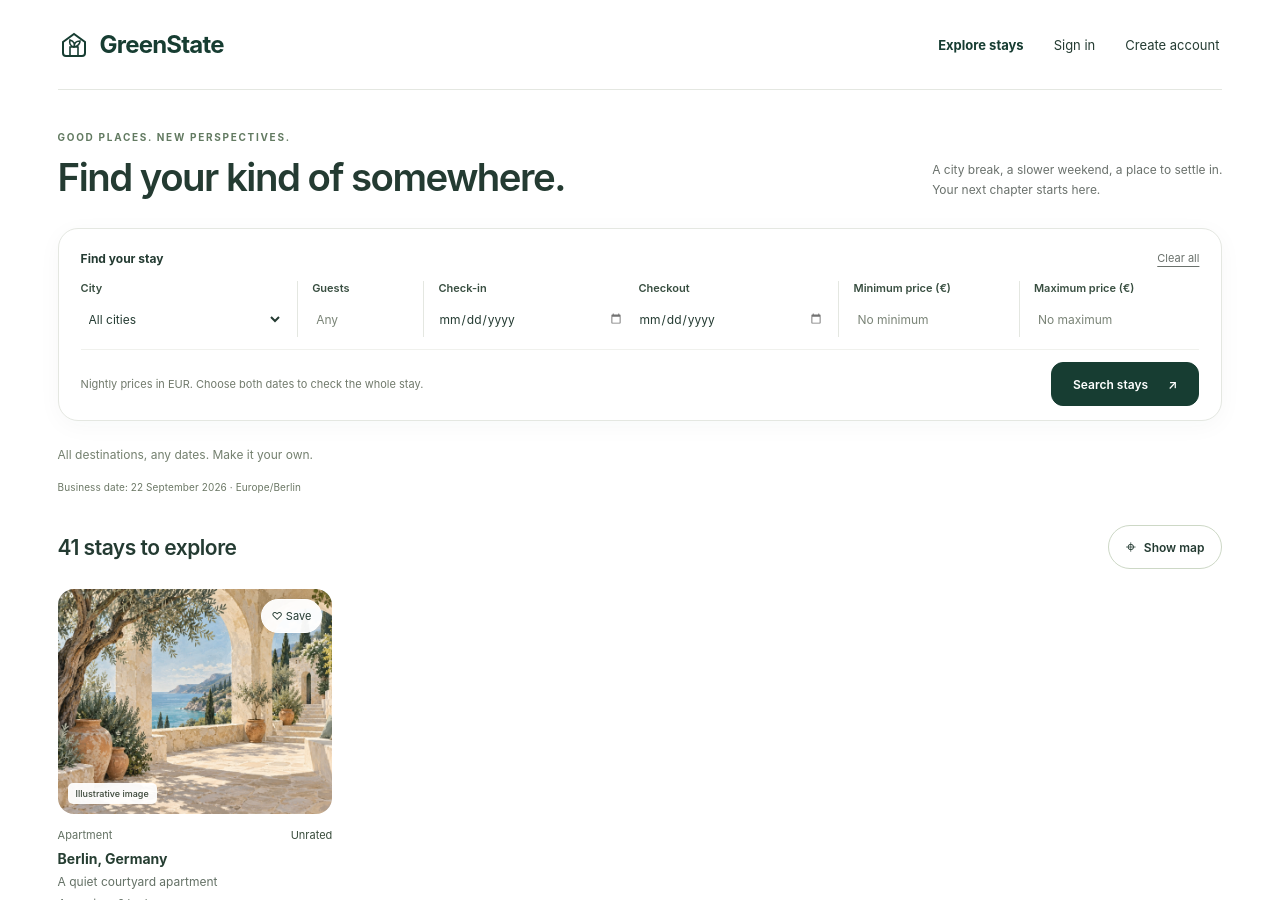
Test: URL-driven search › keeps an incomplete initial range in draft and enforces valid date ordering and maximum stay
Expected: the link "A quiet courtyard apartment" is shown, [58,874,218,890]
Type "2026-10-01" into the date field labelled "Check-in".
click(532, 319); type("2026-10-01")  # box [438,301,624,337]
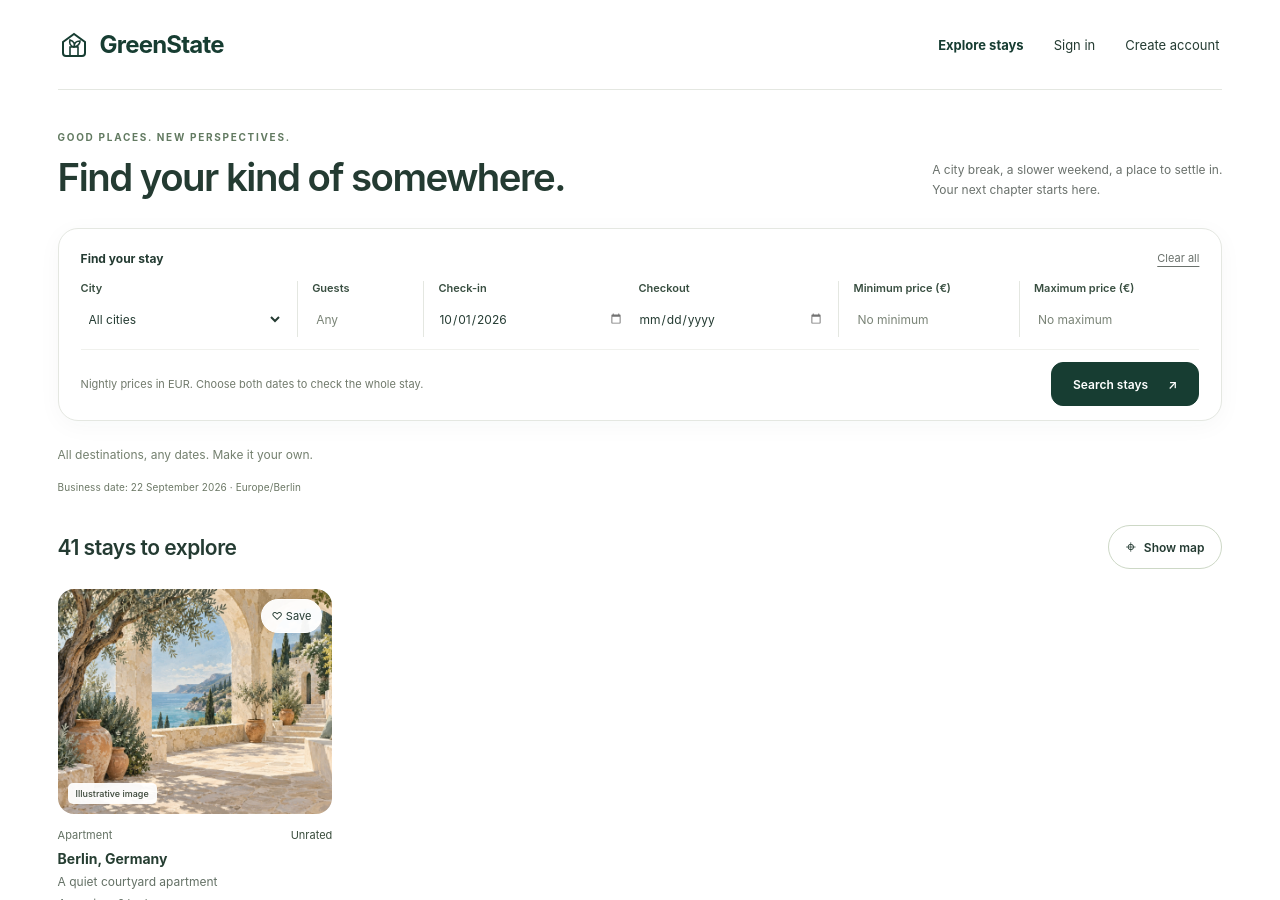
Click the button "Search stays ↗".
click(1125, 384)  # box [1051,362,1199,406]
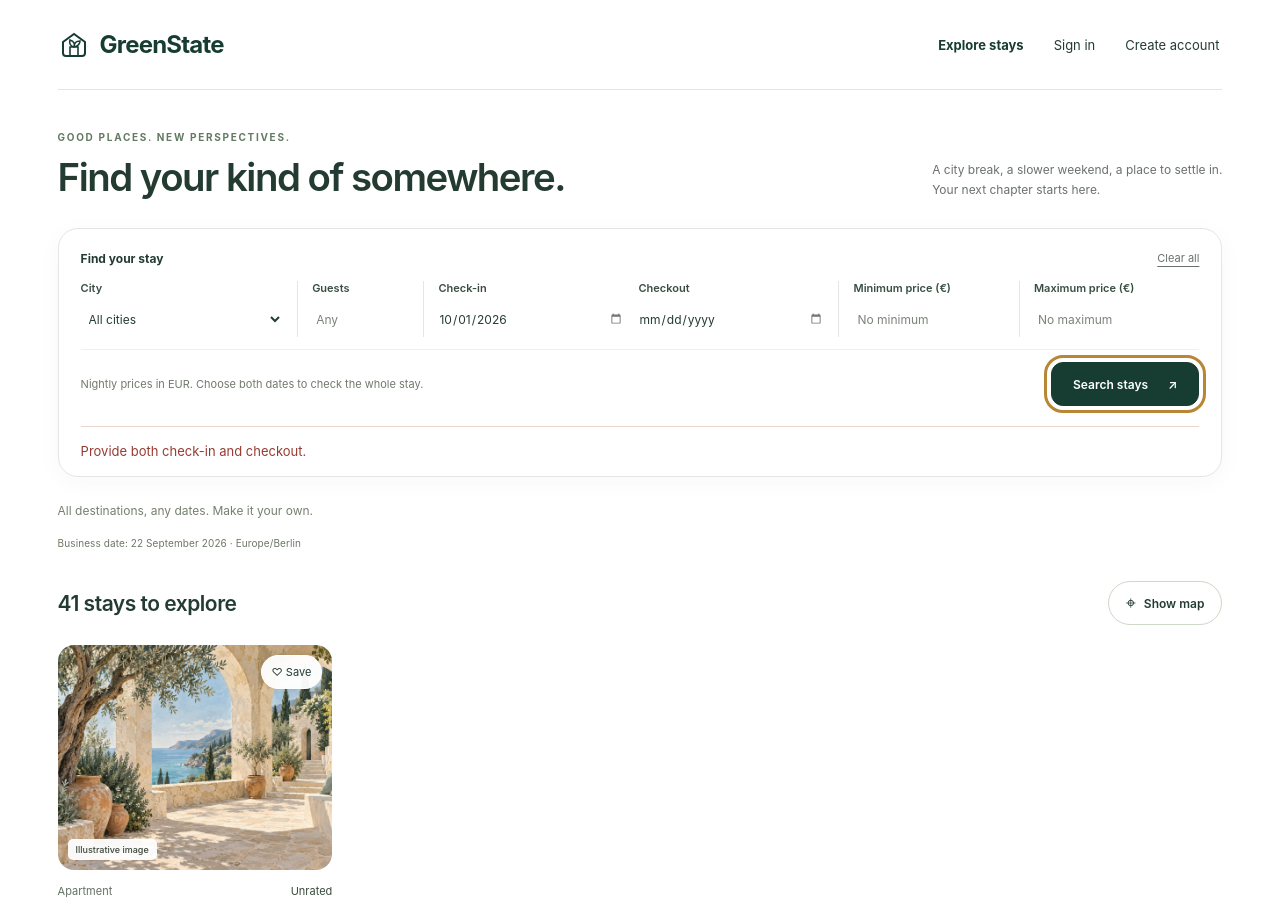
Result: the message shows "both" at [81,443,306,459]
Type "2026-10-01" into the date field labelled "Checkout".
click(732, 319); type("2026-10-01")  # box [638,301,824,337]
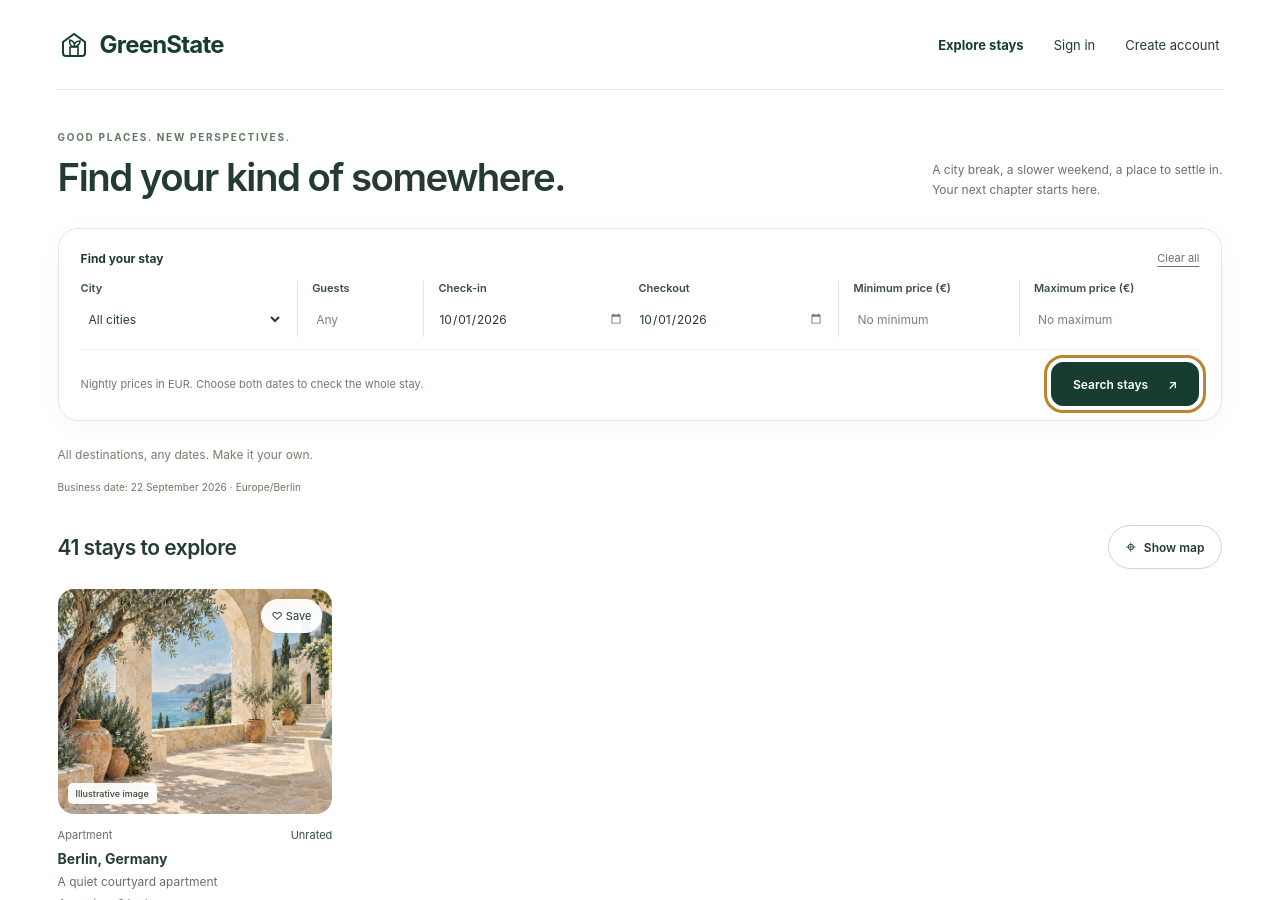
Click the button "Search stays ↗".
click(1125, 384)  # box [1051,362,1199,406]
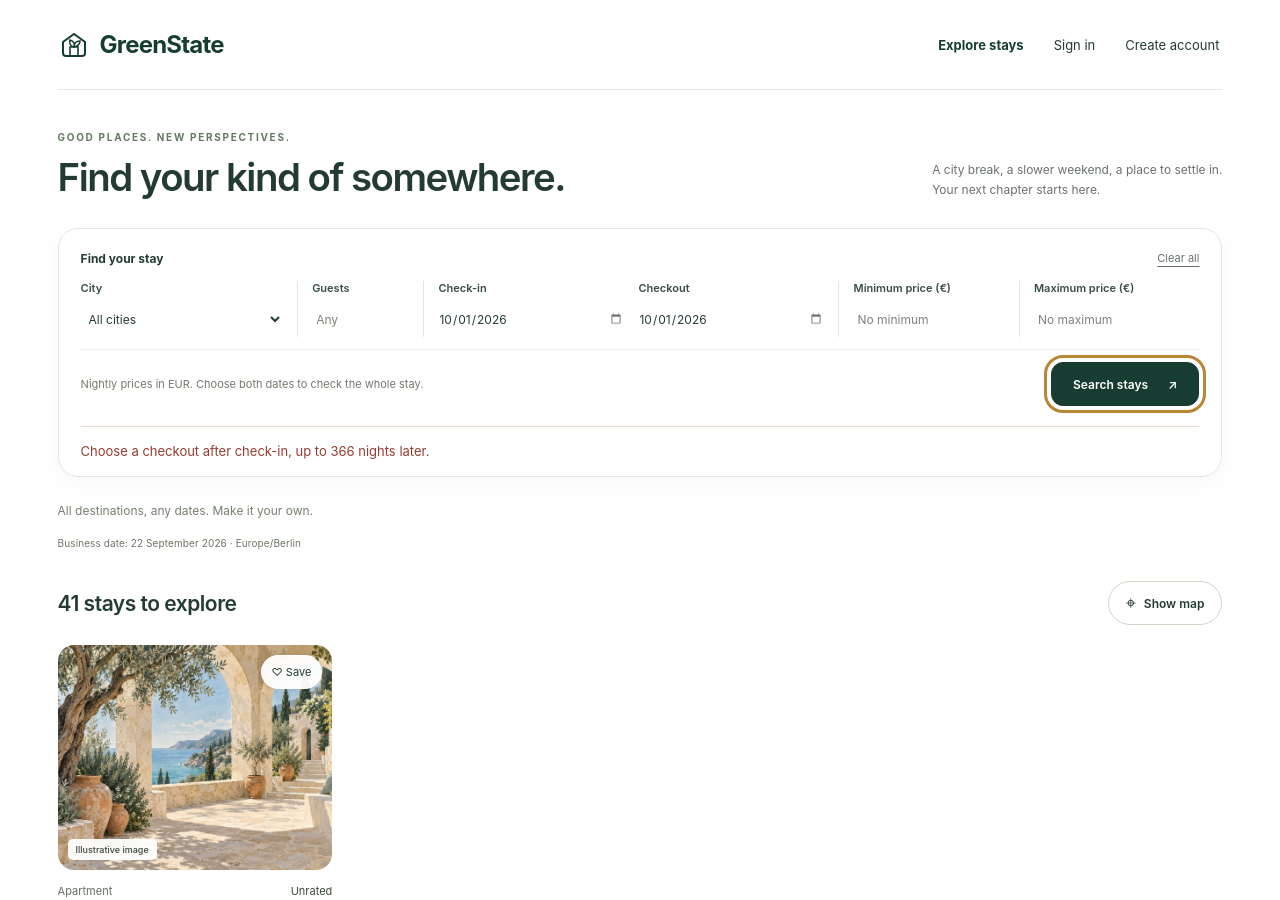
Result: the message shows "checkout after check-in" at [81,443,429,459]
Type "2028-10-02" into the date field labelled "Checkout".
click(732, 319); type("2028-10-02")  # box [638,301,824,337]
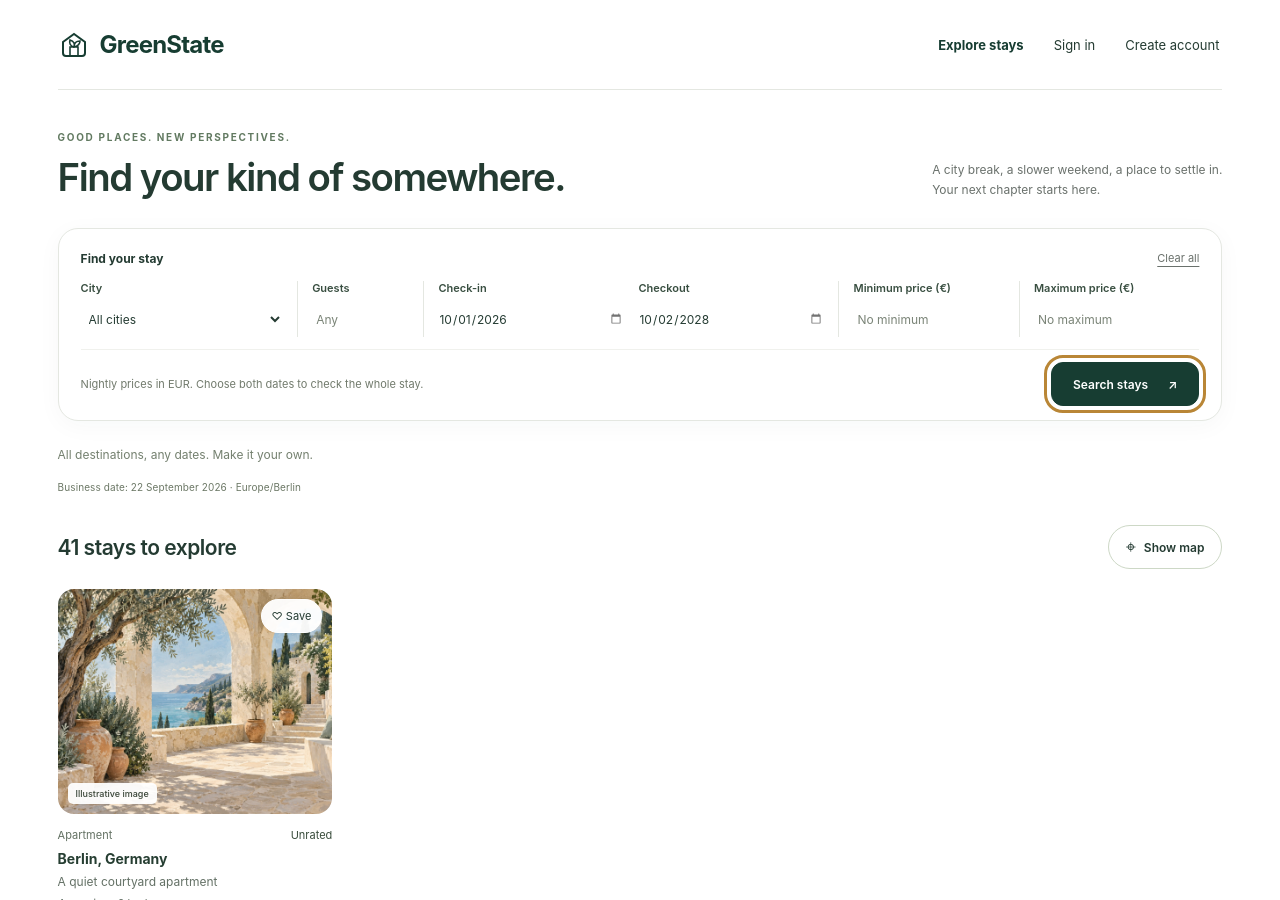
Click the button "Search stays ↗".
click(1125, 384)  # box [1051,362,1199,406]
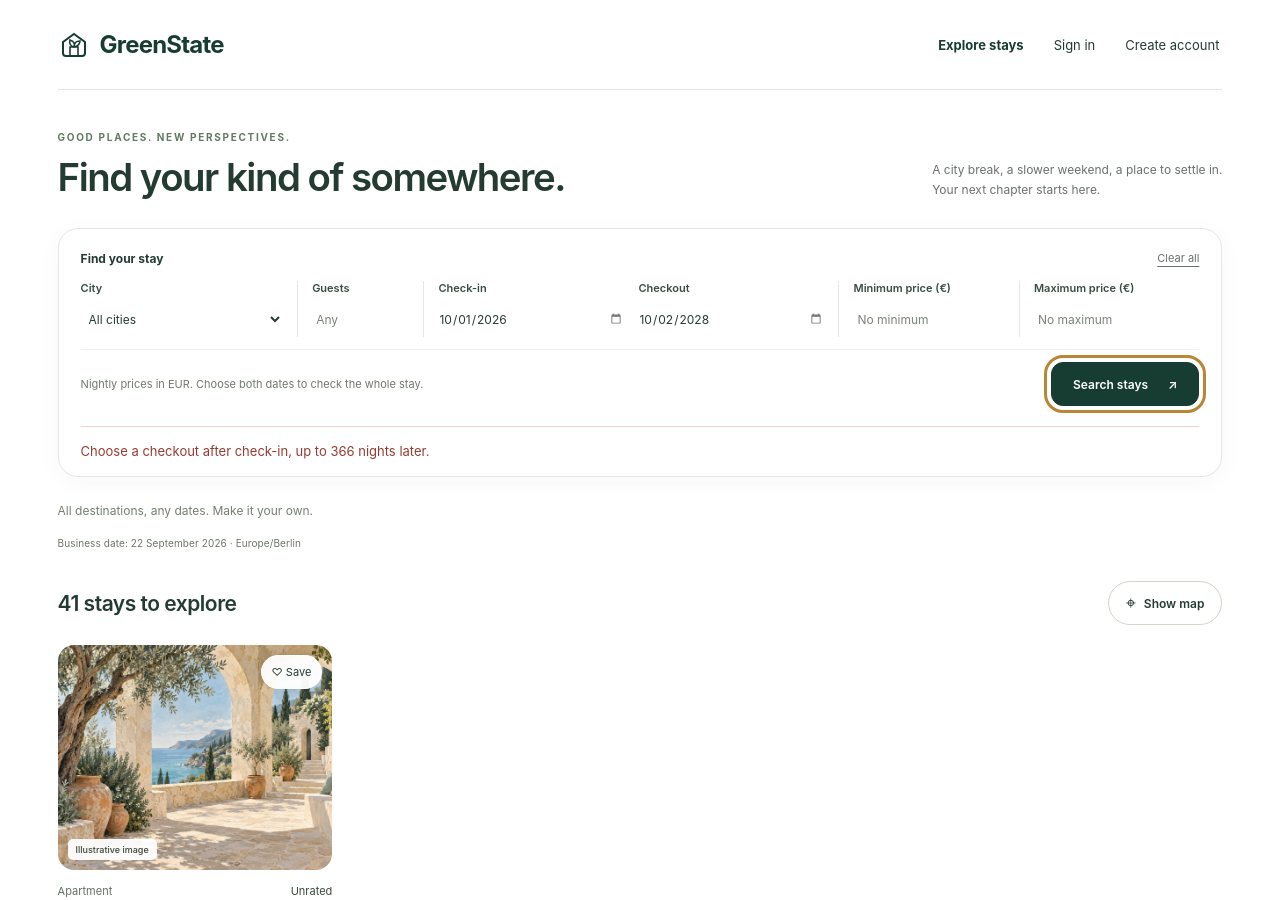
Result: the message shows "366" at [81,443,429,459]
